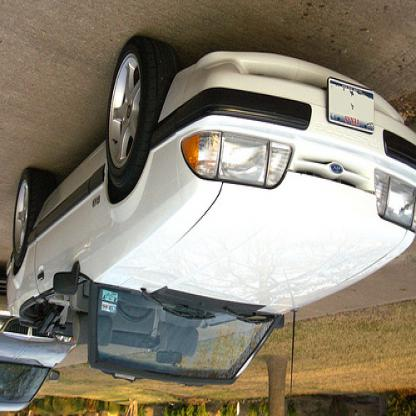car: (7, 35, 416, 389), (2, 264, 79, 413)
